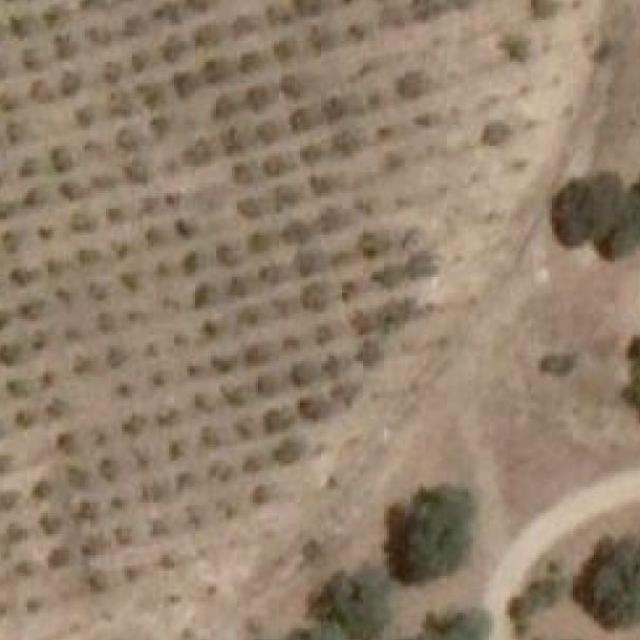Tree: (387, 494, 485, 587), (311, 560, 390, 637), (550, 172, 628, 246), (580, 536, 640, 625), (413, 597, 492, 640), (500, 582, 562, 628), (619, 328, 640, 423), (379, 298, 413, 324), (242, 80, 272, 109), (541, 356, 573, 380), (499, 39, 531, 63), (316, 207, 345, 233), (271, 440, 300, 466), (482, 120, 508, 146), (203, 56, 230, 80), (99, 59, 127, 82), (0, 228, 25, 253), (158, 36, 184, 60), (306, 26, 330, 52), (182, 144, 208, 168), (298, 398, 324, 422), (262, 408, 288, 432), (36, 366, 62, 389), (360, 335, 379, 366), (290, 361, 314, 385), (78, 240, 102, 264), (74, 104, 96, 130), (242, 46, 264, 70), (282, 222, 306, 244), (274, 182, 298, 204), (226, 277, 248, 301), (1, 122, 25, 144), (109, 526, 133, 548), (256, 370, 282, 390), (100, 456, 120, 482), (193, 25, 217, 46), (125, 162, 146, 186), (279, 72, 300, 96), (403, 230, 427, 251), (59, 180, 80, 204), (69, 209, 90, 233), (153, 2, 177, 23), (195, 282, 216, 306), (351, 312, 372, 336), (67, 466, 88, 490), (111, 94, 132, 118), (216, 240, 235, 266), (220, 387, 246, 406), (56, 70, 78, 92), (74, 502, 96, 524), (400, 72, 420, 96), (32, 81, 52, 105), (8, 18, 28, 42), (200, 429, 220, 453), (211, 98, 232, 120), (140, 86, 162, 107), (295, 250, 316, 272), (246, 342, 270, 361), (266, 4, 290, 23), (374, 264, 399, 282), (363, 235, 384, 256), (90, 175, 111, 196), (88, 25, 109, 46), (90, 280, 111, 301), (142, 224, 162, 246), (10, 266, 30, 288), (157, 408, 180, 427), (256, 120, 280, 138), (235, 14, 256, 34), (300, 286, 321, 306), (50, 149, 70, 170), (220, 130, 240, 151), (246, 230, 266, 251), (172, 220, 193, 240), (232, 308, 253, 328), (270, 298, 290, 319), (302, 140, 321, 162), (140, 197, 158, 220), (52, 36, 72, 56), (32, 482, 52, 502), (172, 72, 193, 91), (313, 175, 332, 196), (333, 130, 352, 151), (235, 198, 256, 217), (384, 151, 403, 172), (313, 324, 332, 345), (378, 6, 399, 25), (106, 348, 125, 369), (264, 264, 282, 286), (293, 0, 319, 15), (127, 308, 146, 328), (6, 378, 25, 398), (6, 524, 25, 544), (266, 154, 284, 175), (274, 38, 295, 56), (38, 516, 56, 537), (326, 99, 342, 122), (184, 253, 203, 272), (111, 240, 130, 259), (232, 424, 251, 443), (22, 51, 41, 70), (40, 6, 59, 25), (111, 494, 130, 513), (122, 16, 140, 36), (232, 164, 251, 182), (151, 116, 167, 136), (200, 322, 220, 338), (195, 394, 211, 414), (531, 0, 552, 15), (211, 356, 232, 371), (59, 432, 74, 453), (0, 91, 15, 112), (347, 22, 363, 41), (22, 191, 41, 207), (412, 0, 432, 15), (0, 456, 12, 480), (120, 127, 135, 146), (129, 52, 148, 67), (19, 162, 38, 177), (0, 492, 15, 511), (167, 442, 182, 461), (164, 296, 182, 311), (342, 282, 358, 298), (20, 303, 36, 319), (0, 343, 12, 364), (106, 207, 122, 222), (164, 193, 179, 209), (172, 333, 188, 348), (117, 385, 132, 401), (151, 372, 167, 387), (377, 125, 392, 140), (38, 225, 53, 240)
